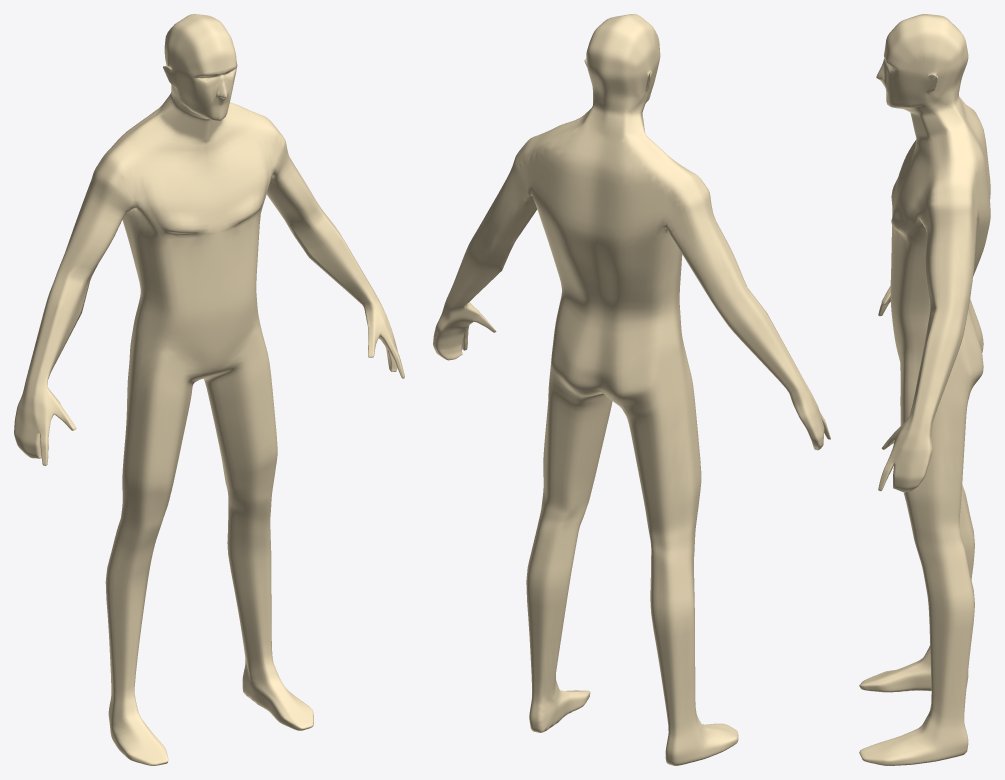
Rendered from body-standard.glb.
3 renders of one model, left to right at view 1: azimuth 30°, elevation 25°; view 2: azimuth 150°, elevation 25°; view 3: azimuth 270°, elevation 25°, orthographic.
Visible parts, largest first — view 1: Body; view 2: Body; view 3: Body.
Boxes of the visible parts, left/top/right/bottom form: Body: left=14, top=14, right=404, bottom=765; Body: left=433, top=14, right=830, bottom=765; Body: left=859, top=14, right=990, bottom=765.
Size of the model in its own units: 1.95 by 3.49 by 0.5891.
